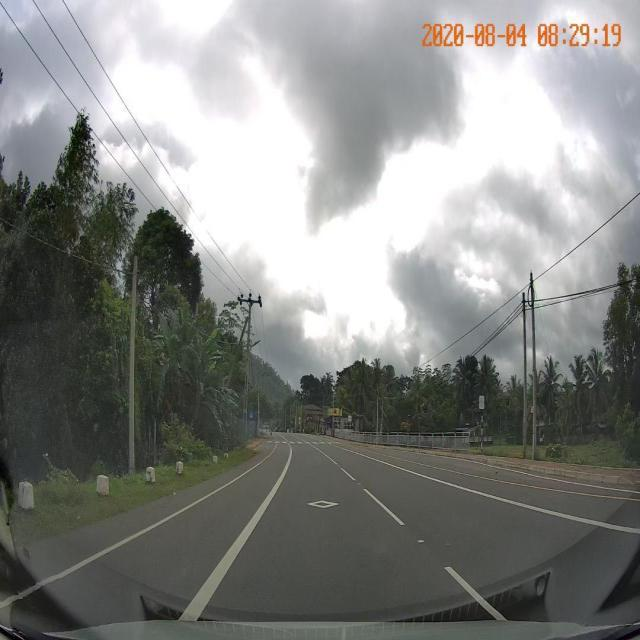Liniya 1: (9, 456, 270, 608), (343, 448, 640, 537), (175, 454, 293, 621), (441, 563, 510, 621), (361, 487, 407, 527), (315, 447, 340, 465), (339, 467, 358, 481)
Romb: (307, 497, 336, 509)
